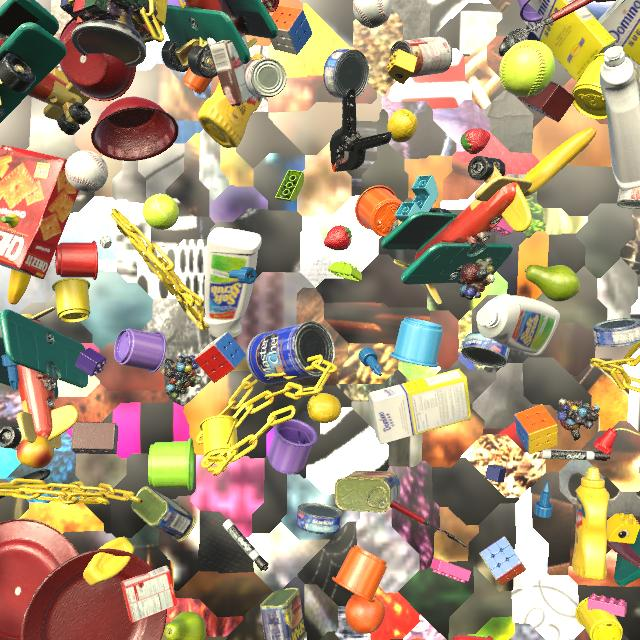ycb_002_master_chef_can: (246, 321, 335, 385)
ycb_003_cracker_box: (0, 145, 79, 279)
ycb_004_sugar_box: (369, 368, 471, 445), (521, 0, 616, 82), (598, 0, 640, 65)
ycb_005_tomato_soup_can: (389, 37, 453, 78), (244, 58, 287, 98), (617, 187, 640, 209)
ycb_006_mustard_bottle: (198, 54, 264, 148), (572, 467, 610, 581), (83, 537, 134, 586)
ycb_007_tuna_fish_can: (323, 49, 369, 98), (461, 332, 510, 368), (296, 503, 343, 535), (593, 318, 640, 347)
ycb_008_pudding_box: (209, 33, 253, 106), (595, 0, 616, 3)
ycb_009_gelatin_box: (121, 565, 177, 623)
ycb_010_potted_meat_can: (132, 486, 196, 542), (334, 471, 400, 513), (260, 588, 307, 640)
ycb_011_banana: (523, 127, 597, 197), (0, 214, 31, 305)
ycb_012_strawberry: (460, 128, 490, 154), (324, 225, 352, 251)
ycb_014_lemon: (387, 109, 418, 143), (308, 393, 341, 423)
ycb_015_peach: (16, 436, 54, 468)
ycb_016_pear: (525, 264, 580, 302), (164, 611, 206, 640)
ycb_017_orange: (345, 594, 385, 634)
